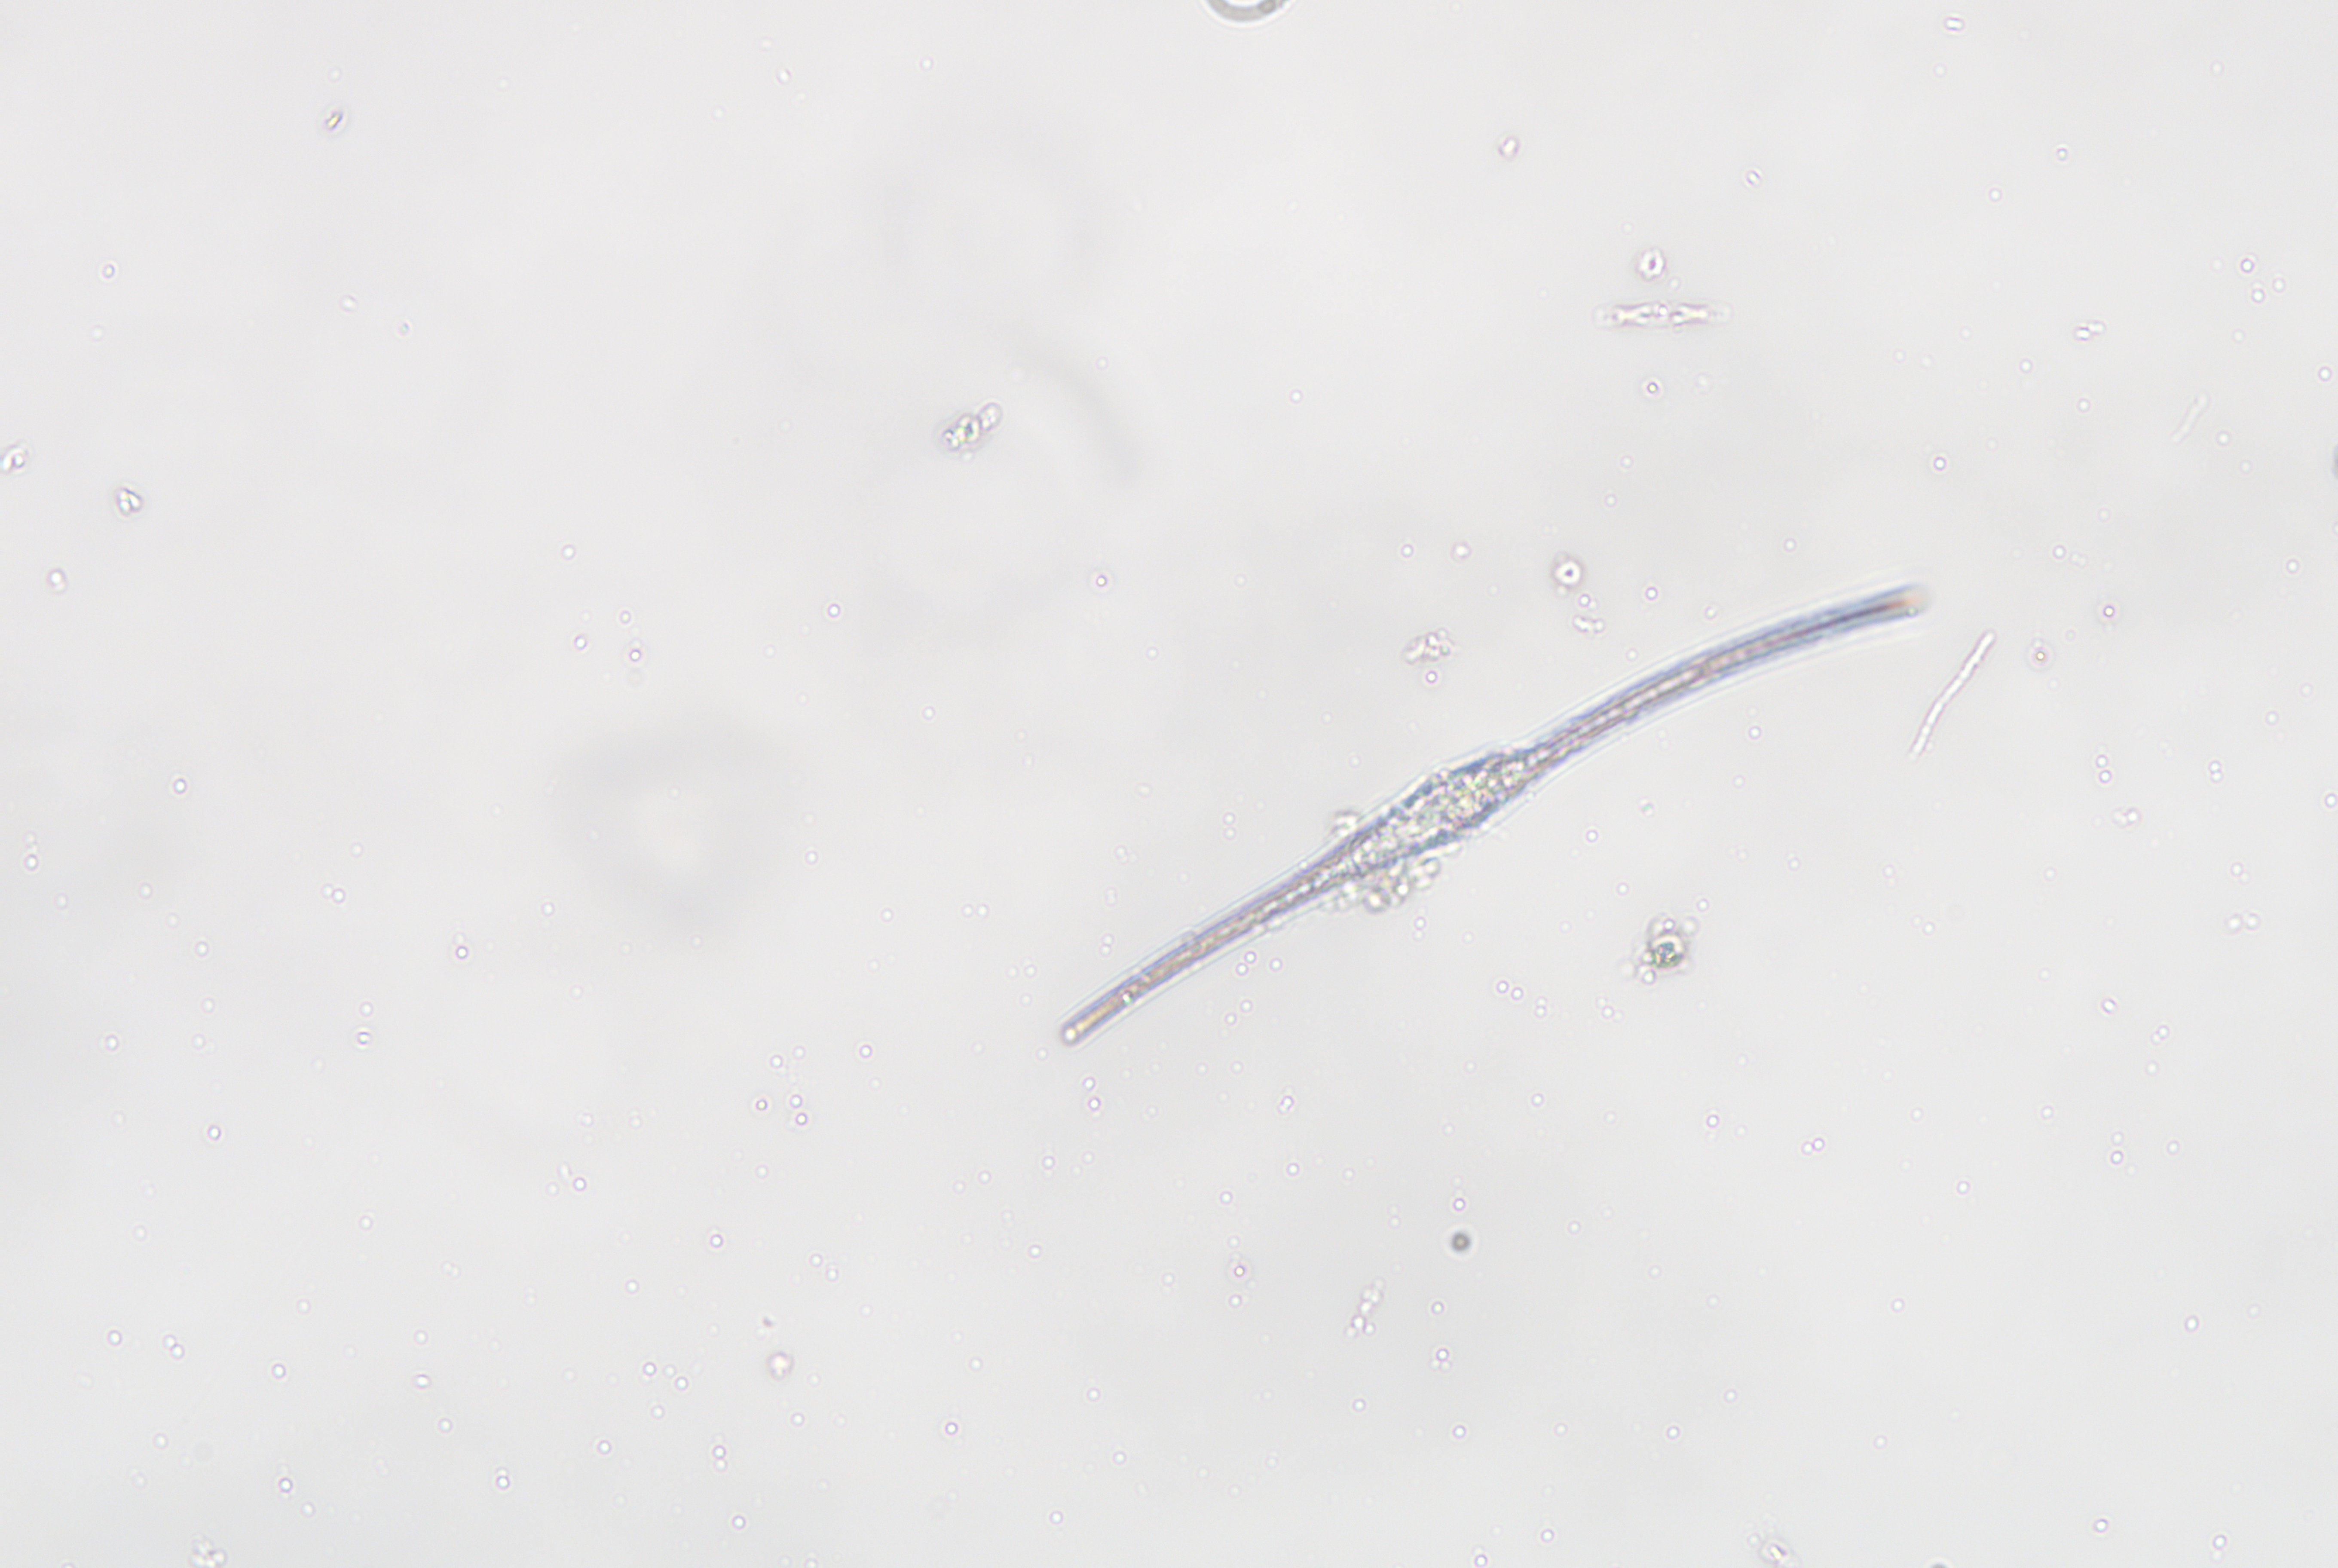ceratium fusus: (1047, 570, 1948, 1064)
